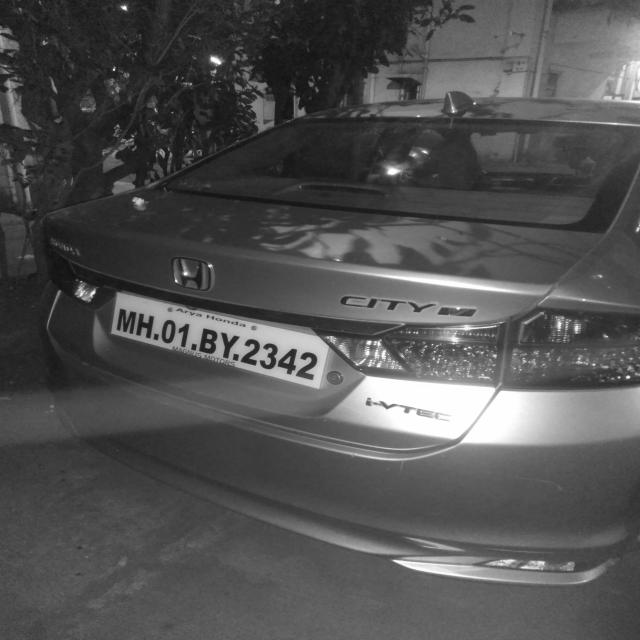license-plate: (104, 288, 332, 394)
